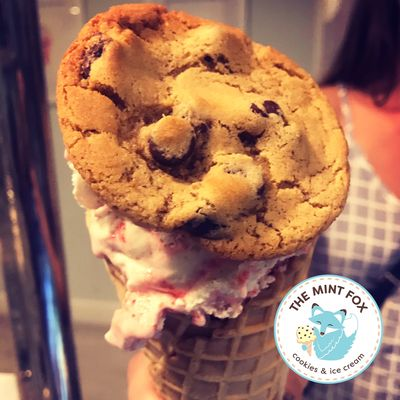sandwich: (54, 4, 351, 355)
